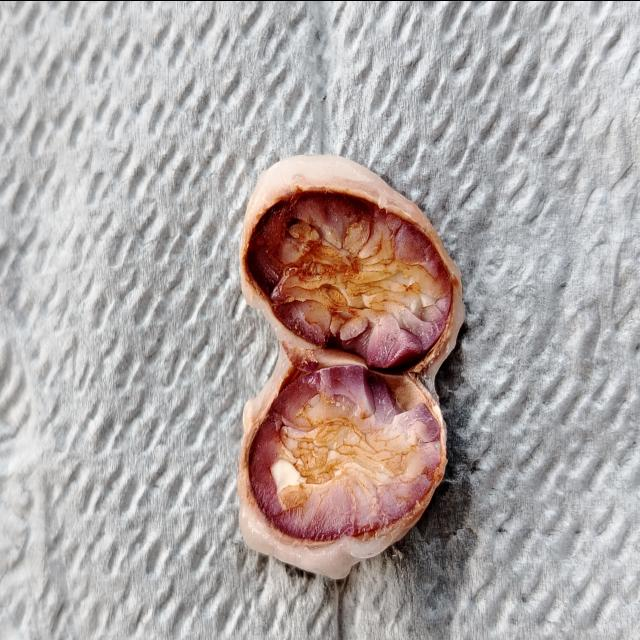Trinitario: (253, 188, 452, 366), (248, 366, 442, 539)
